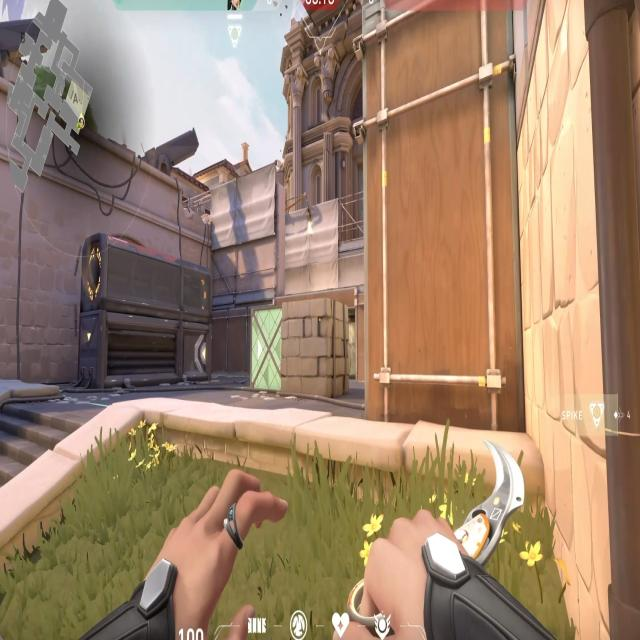A_Heaven_Wall: (192, 169, 296, 300)
A_Site_Box: (243, 294, 355, 400)
